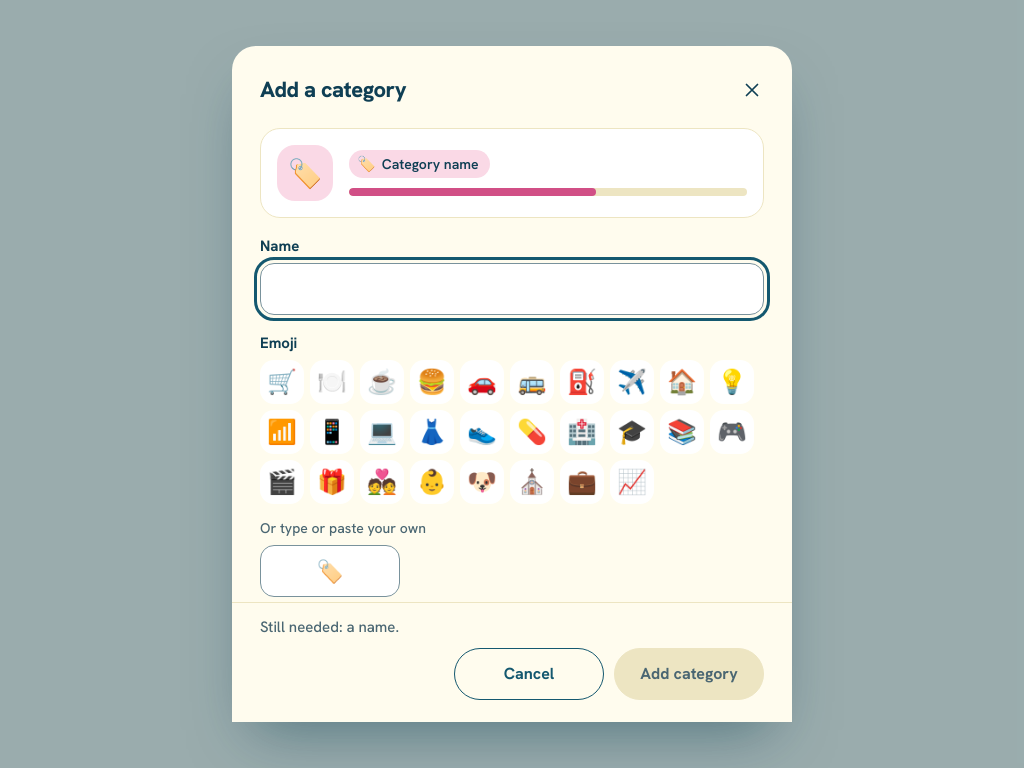
Test: add a category › with no connection says nothing was saved and keeps what was typed
Type "Pets" into the field labelled "Name" at (512, 289), box [260,263,764,315]
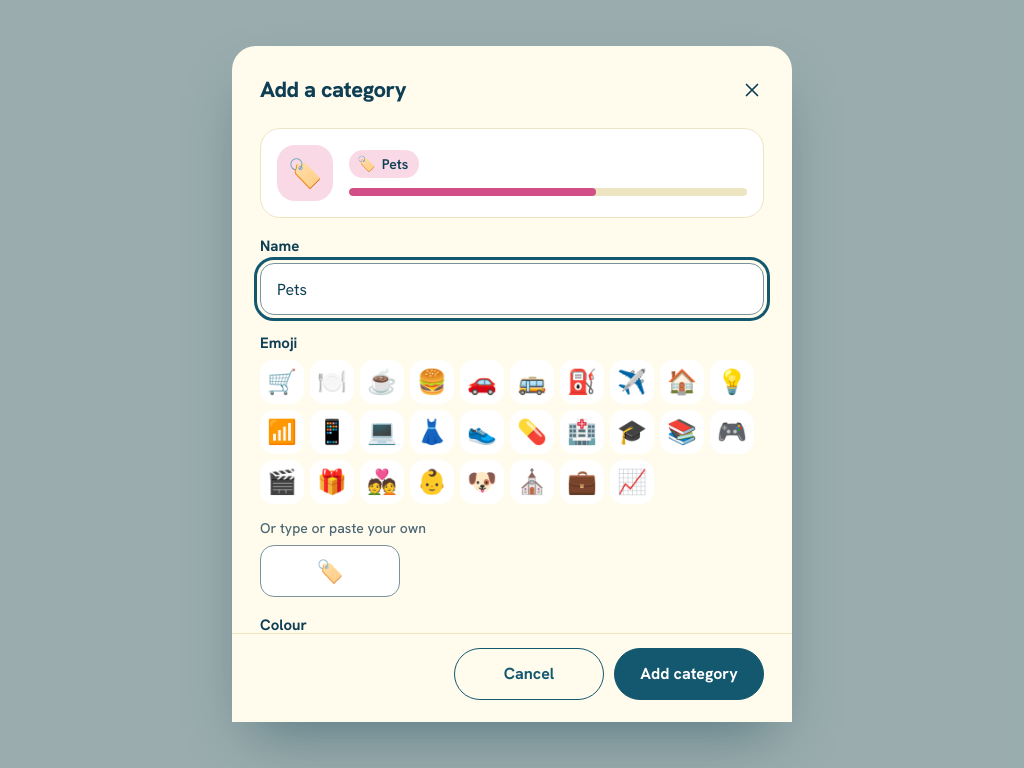
Click the button "Add category" at (689, 674), box [614,648,764,700]
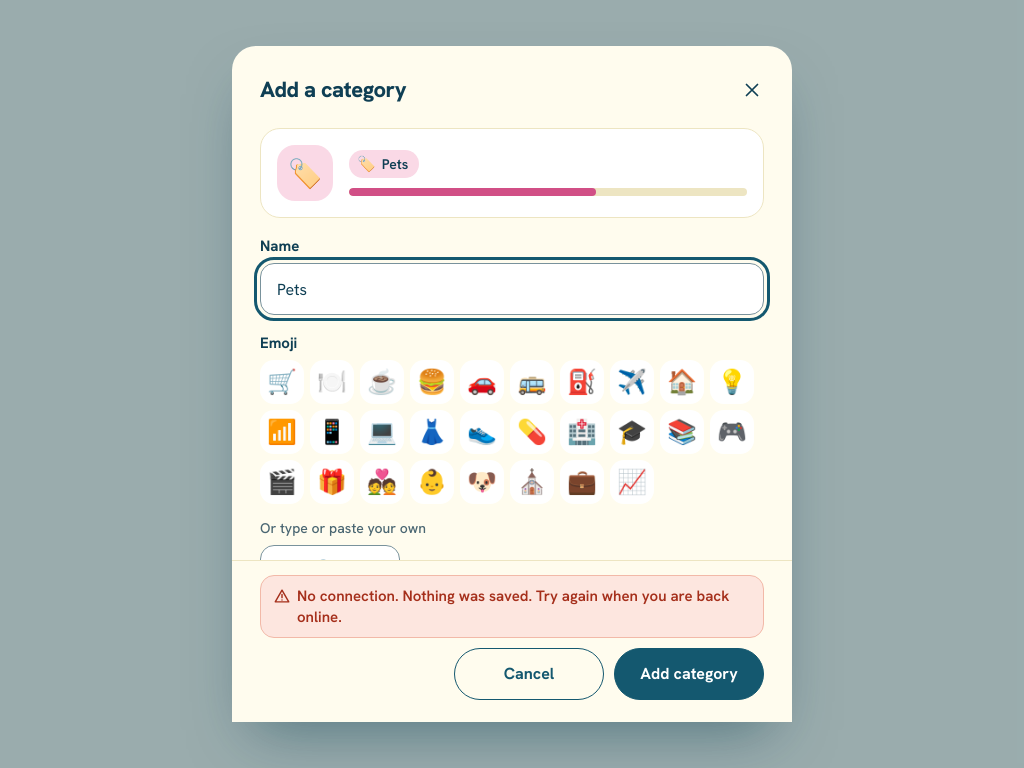
Expected: the text "No connection. Nothing was saved. Try again when you are back online." is shown, [297,586,751,627]
